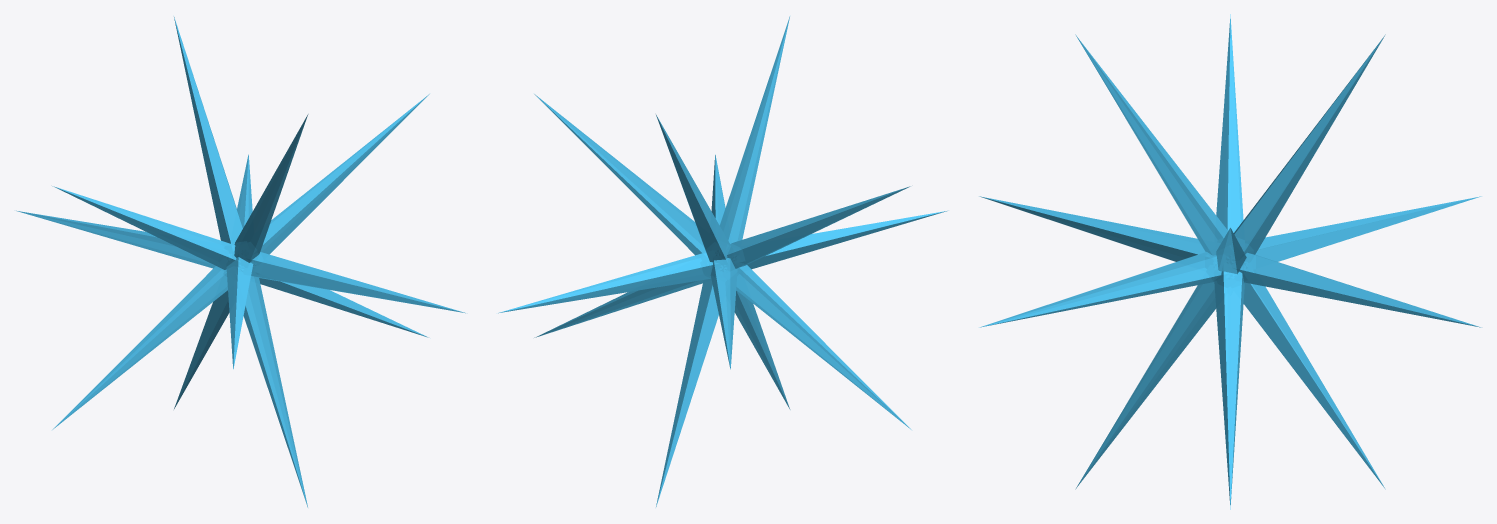
Rendered from MedialInvertedPentagonalHexecontahedron.obj.
3 views of the same model, side by side, from view 1: azimuth 30°, elevation 25°; view 2: azimuth 150°, elevation 25°; view 3: azimuth 270°, elevation 25° (orthographic). The views are drawn at different scales.
Size of the model in its own units: 19.8 by 19.8 by 19.8.
